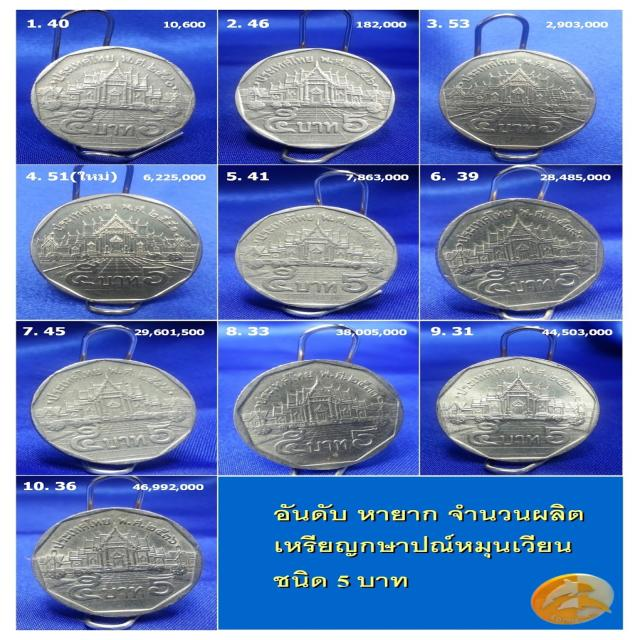5 Bath: (32, 189, 203, 307), (231, 357, 404, 472), (435, 200, 609, 314), (232, 42, 403, 155), (28, 46, 202, 157), (34, 507, 200, 617), (32, 359, 197, 469), (235, 206, 399, 313), (435, 357, 598, 464), (443, 48, 601, 154)
